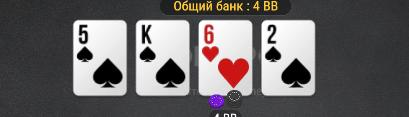2s: (262, 21, 314, 94)
5s: (74, 21, 126, 95)
6h: (199, 21, 252, 95)
Ks: (137, 22, 190, 95)
